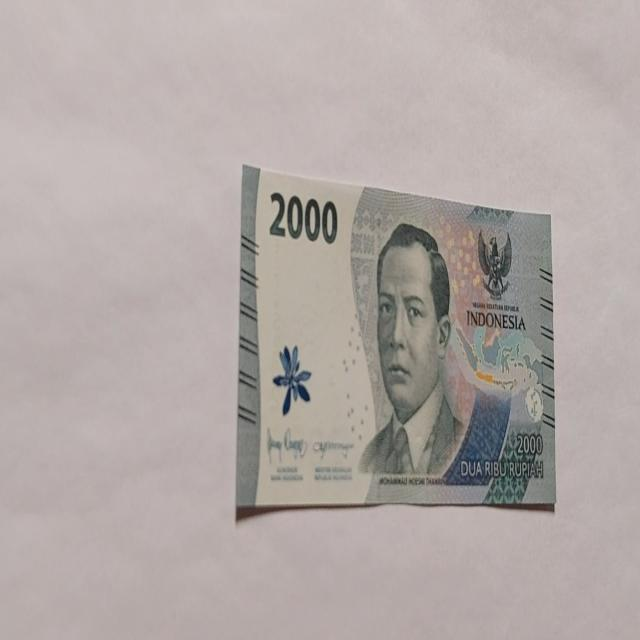dua ribu rupiah: (236, 163, 556, 514), (358, 222, 467, 478)
